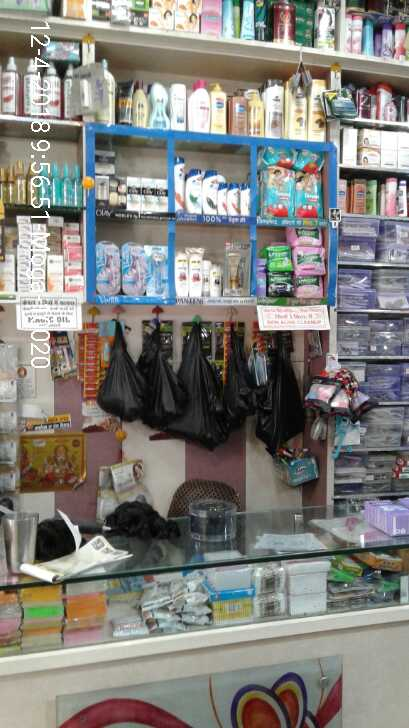gillete: (325, 90, 355, 118)
venus: (98, 240, 120, 294), (147, 243, 165, 298), (124, 241, 143, 293)
